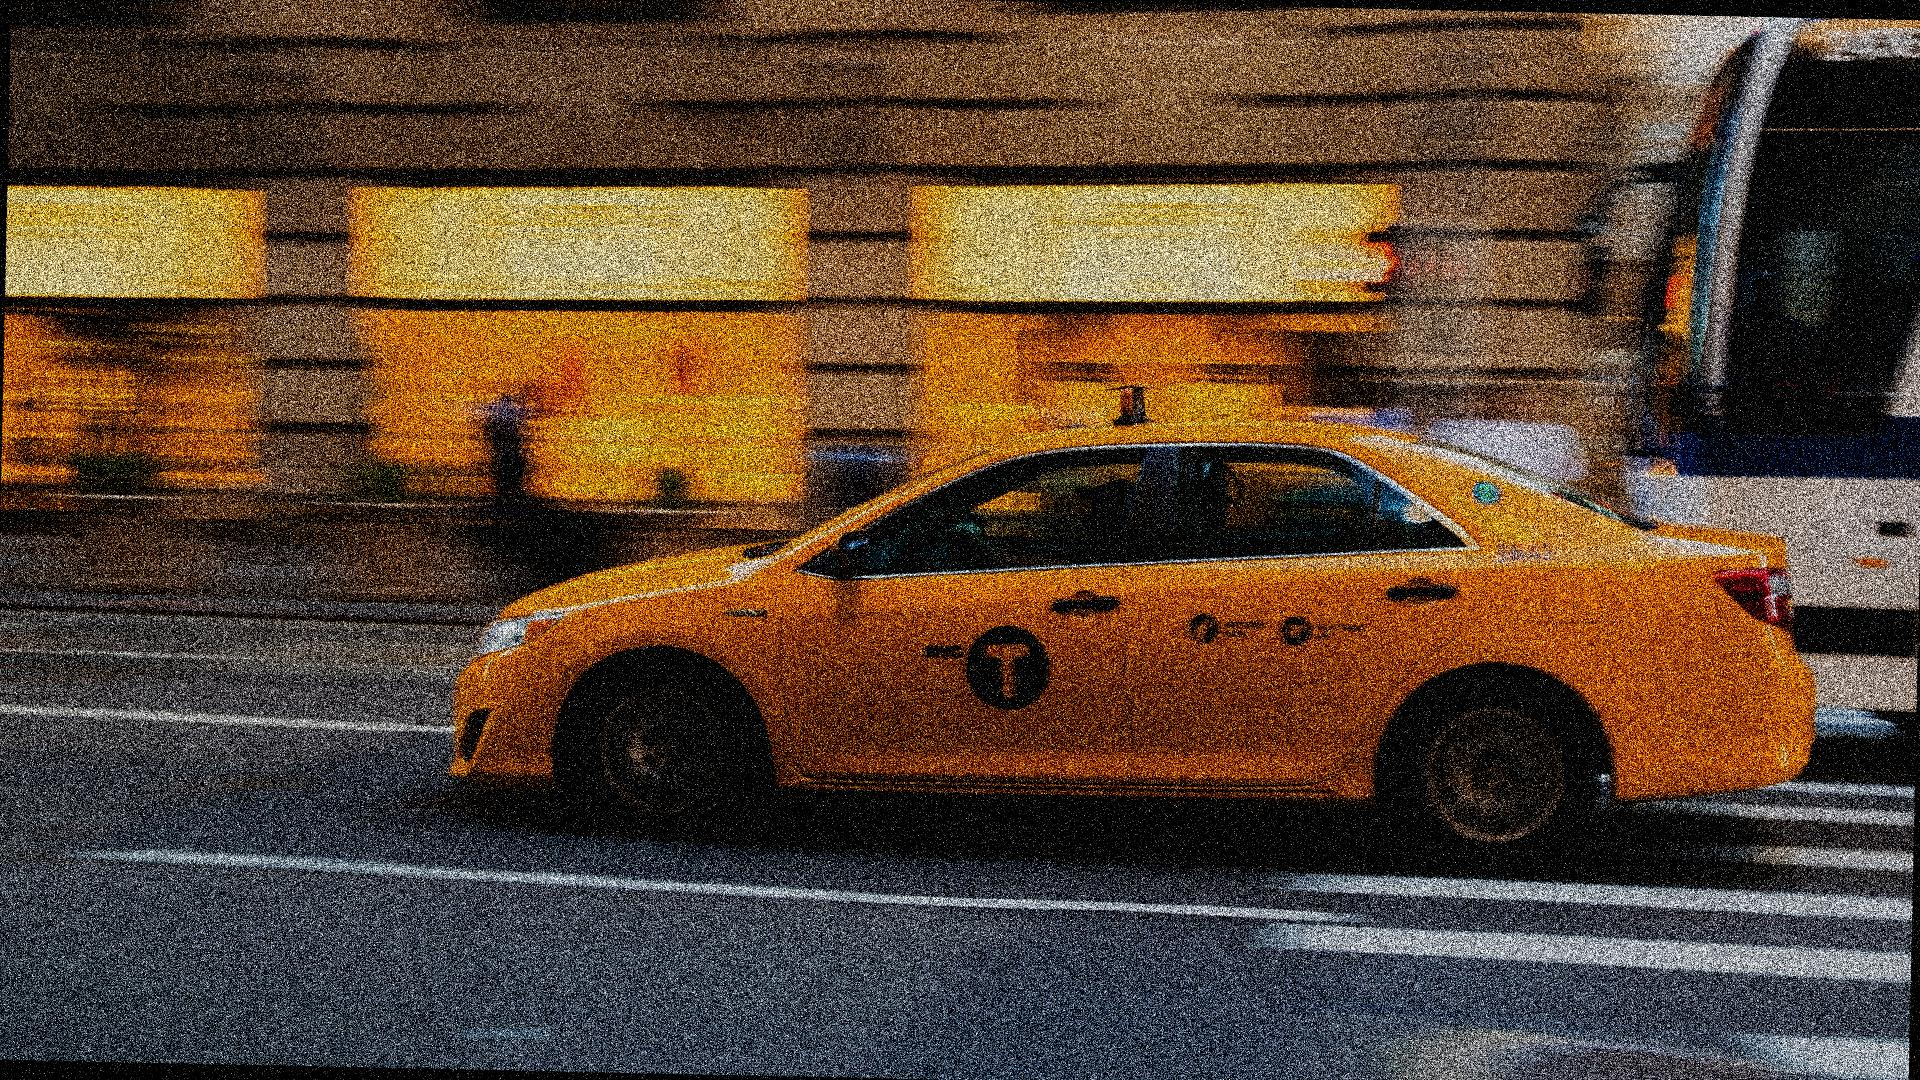taxi: (411, 417, 1865, 814)
